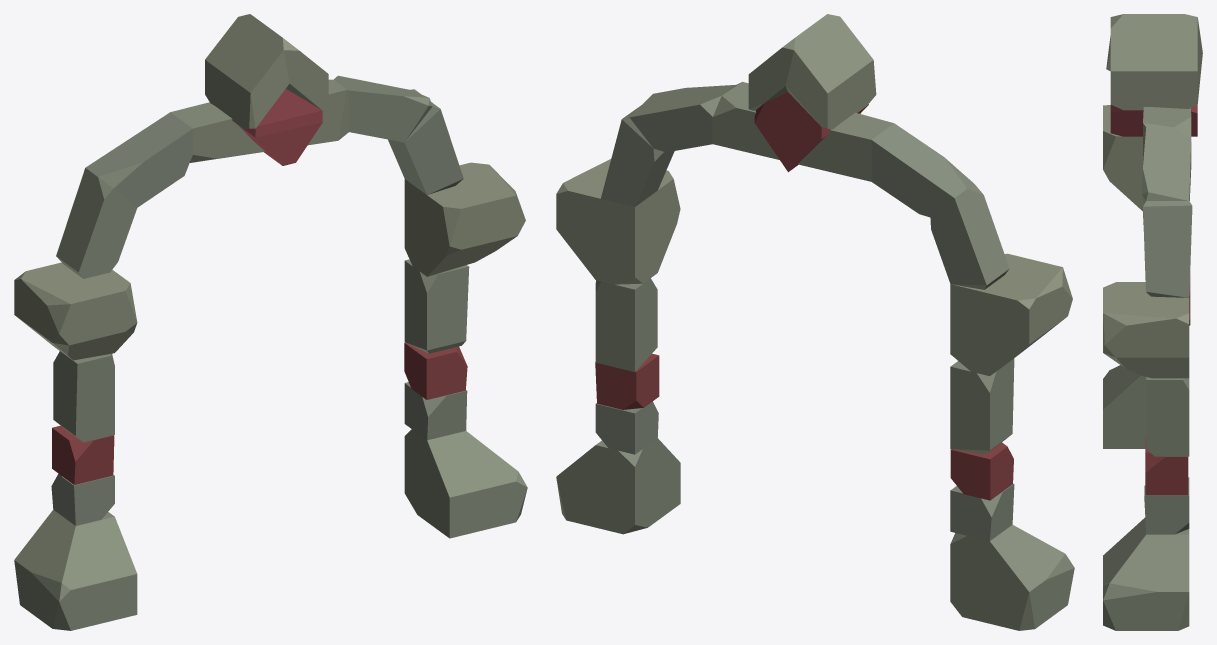
Rendered from door_arch_double.fbx.
3 views of the same model, side by side, from view 1: azimuth 30°, elevation 25°; view 2: azimuth 150°, elevation 25°; view 3: azimuth 270°, elevation 25° (orthographic). The views are drawn at different scales.
Visible parts, largest first — view 1: door_arch_double; view 2: door_arch_double; view 3: door_arch_double.
Boxes of the visible parts, x1,y1,x2,y2 form: door_arch_double: [14, 14, 527, 630]; door_arch_double: [556, 14, 1074, 630]; door_arch_double: [1103, 14, 1202, 630].
Bounding box in the file's own units: 300 × 325 × 57.91.
